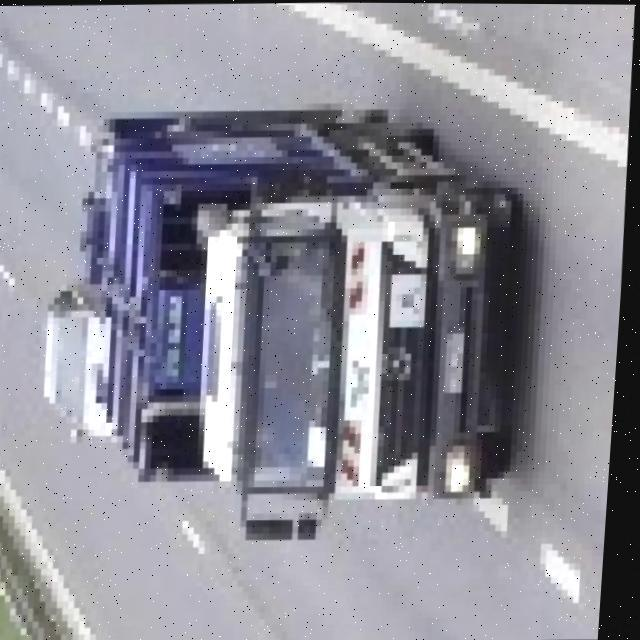truck: (52, 104, 542, 551)
